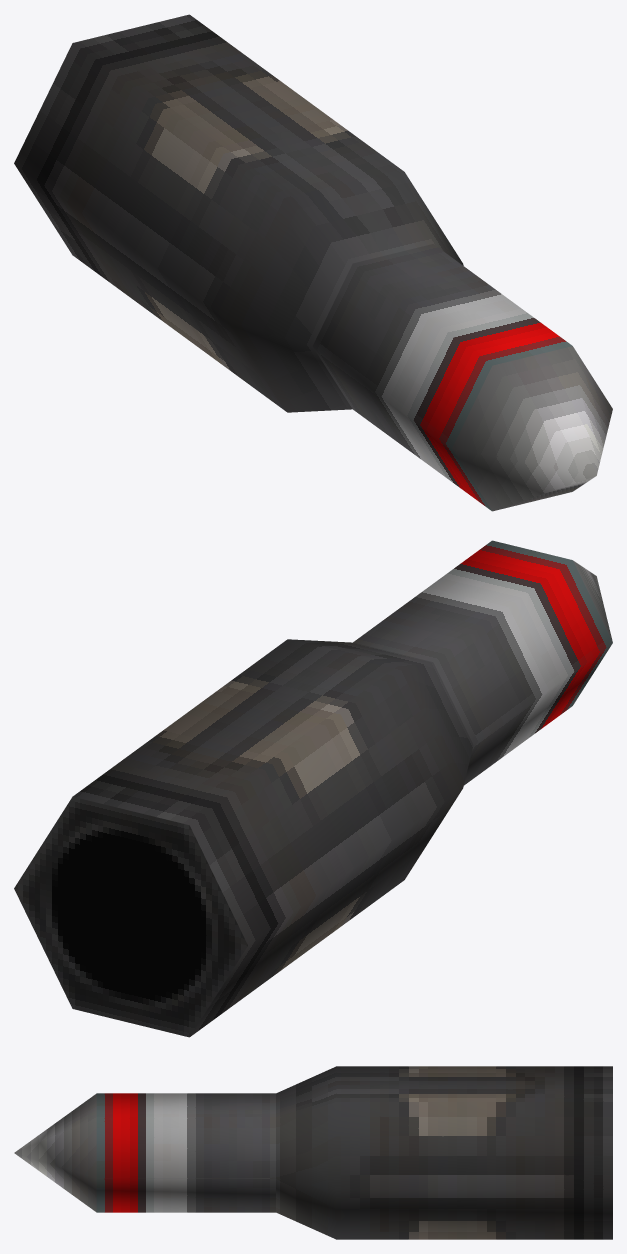
File: projectile_bolt.fbx
The picture shows the model from 3 angles, top to bottom: view 1: azimuth 30°, elevation 25°; view 2: azimuth 150°, elevation 25°; view 3: azimuth 270°, elevation 25°; orthographic projection. The views are drawn at different scales.
Parts seen in each view (by area): view 1: projectile_missile:pCylinder1; view 2: projectile_missile:pCylinder1; view 3: projectile_missile:pCylinder1.
Boxes of the visible parts, left/top/right/bottom form: projectile_missile:pCylinder1: left=14, top=14, right=612, bottom=511; projectile_missile:pCylinder1: left=14, top=540, right=612, bottom=1037; projectile_missile:pCylinder1: left=14, top=1066, right=612, bottom=1239.
Bounding box in the file's own units: 0.042 × 0.0364 × 0.1447.
Materials: 1 (1 with a texture image).
